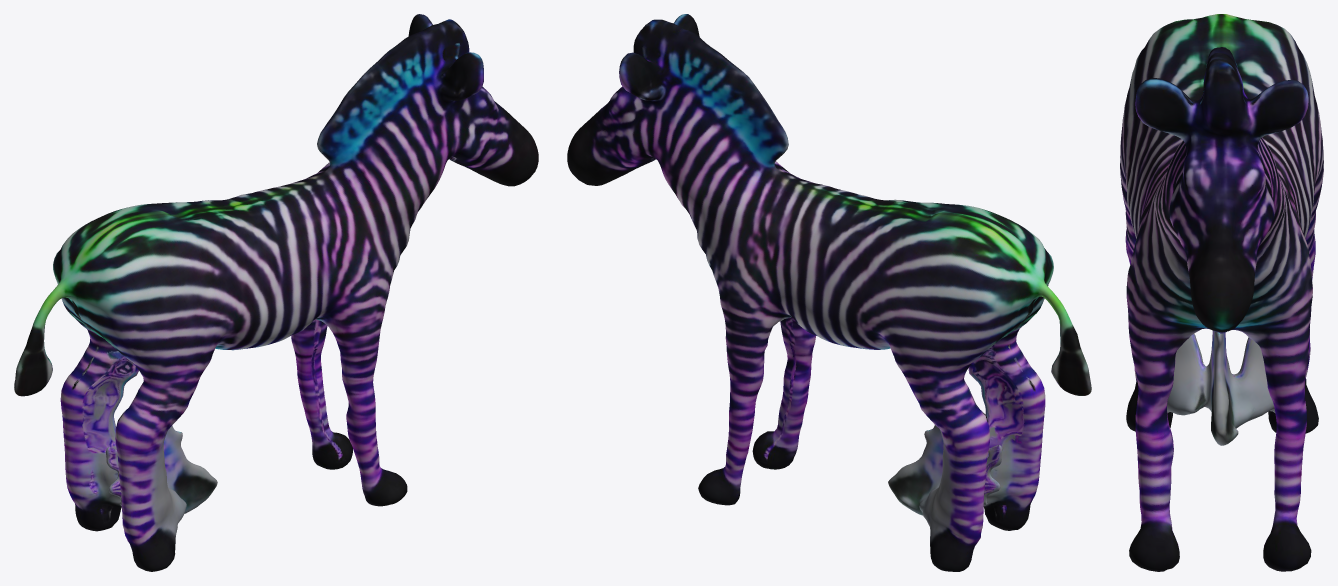
The model's file is e494679b4b42_zebra_with_neon_str.fbx.
3 views of the same model, side by side, from view 1: azimuth 30°, elevation 25°; view 2: azimuth 150°, elevation 25°; view 3: azimuth 270°, elevation 25° (orthographic). The views are drawn at different scales.
Visible parts, largest first — view 1: mesh; view 2: mesh; view 3: mesh.
Part boxes in pixels (x1,y1,x2,y2): mesh: (14,14,538,571); mesh: (567,14,1091,571); mesh: (1120,14,1323,571).
Size of the model in its own units: 99.63 by 81.73 by 26.56.
